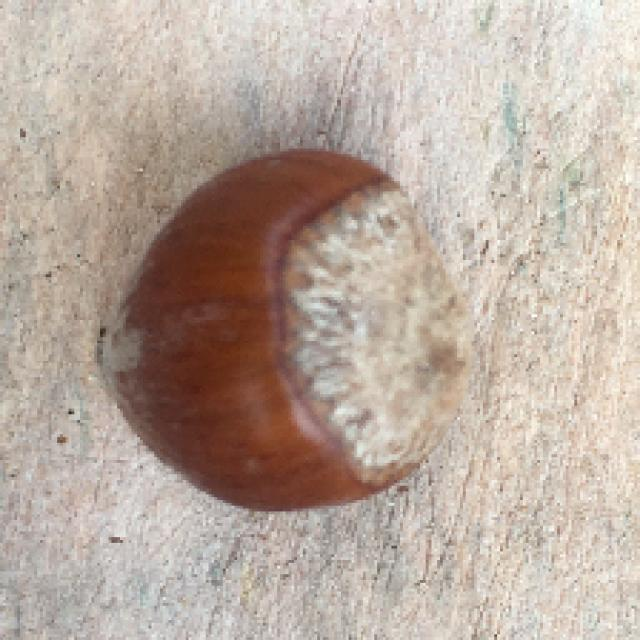qualityHazelnut: (88, 148, 459, 508)
